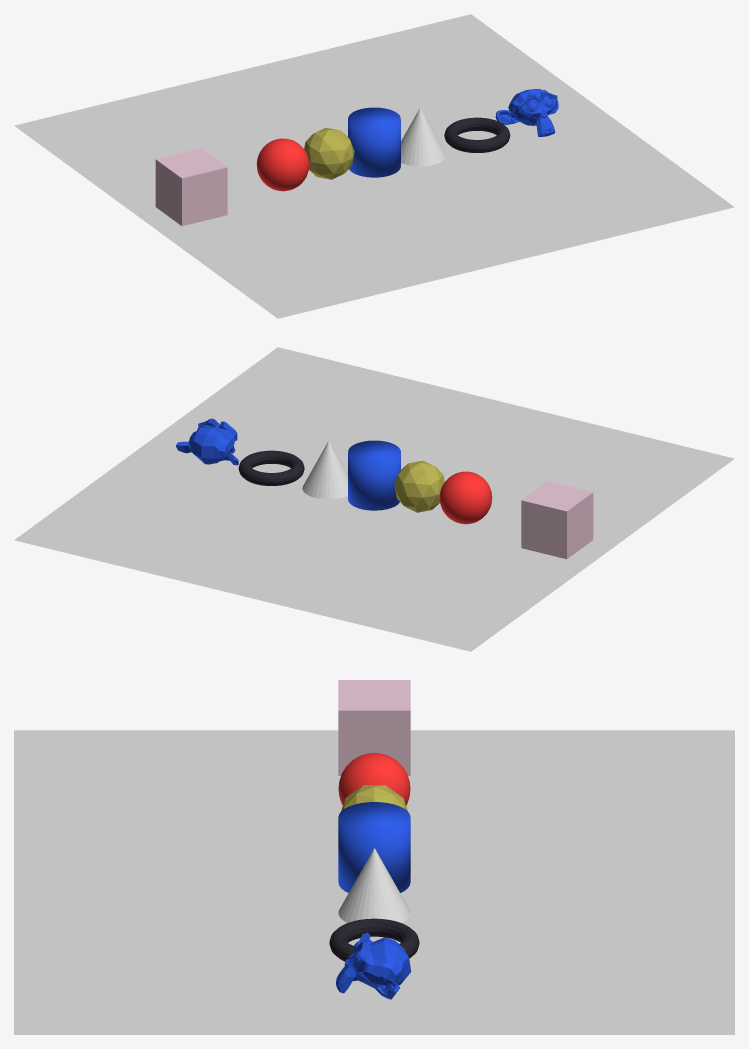
File: exercise 3.glb
3 renders of one model, top to bottom at view 1: azimuth 30°, elevation 25°; view 2: azimuth 150°, elevation 25°; view 3: azimuth 270°, elevation 25°, orthographic. The views are drawn at different scales.
Parts seen in each view (by area): view 1: Plane, Cube, Cylinder, Sphere, Icosphere, Suzanne, Cone, Torus; view 2: Plane, Cube, Cylinder, Sphere, Icosphere, Suzanne, Cone, Torus; view 3: Plane, Cube, Cylinder, Suzanne, Cone, Sphere, Torus, Icosphere.
Part boxes in pixels (box(x1,y1,x2,y2)): Plane: box(14, 14, 734, 318); Cube: box(155, 148, 227, 226); Cylinder: box(348, 107, 400, 177); Sphere: box(256, 138, 309, 191); Icosphere: box(304, 127, 354, 179); Suzanne: box(495, 89, 558, 136); Cone: box(401, 108, 446, 166); Torus: box(444, 117, 510, 152); Plane: box(14, 347, 734, 651); Cube: box(521, 481, 593, 559); Cylinder: box(348, 440, 400, 510); Sphere: box(439, 471, 492, 524); Icosphere: box(394, 460, 444, 512); Suzanne: box(175, 418, 238, 465); Cone: box(302, 441, 347, 499); Torus: box(238, 450, 304, 485); Plane: box(14, 730, 734, 1034); Cube: box(338, 680, 410, 775); Cylinder: box(338, 802, 410, 892); Suzanne: box(336, 932, 411, 999); Cone: box(338, 848, 410, 922); Sphere: box(338, 753, 410, 805); Torus: box(329, 918, 419, 961); Icosphere: box(341, 785, 407, 810).
Bounding box in the file's own units: 20 × 2 × 20.
